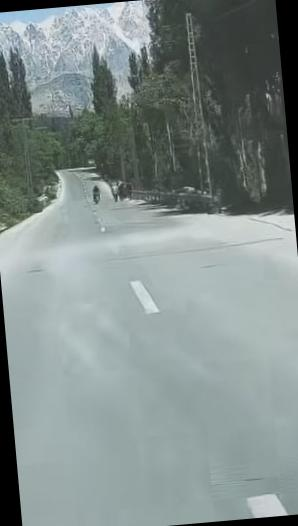sharp_turn: (0, 142, 298, 526)
